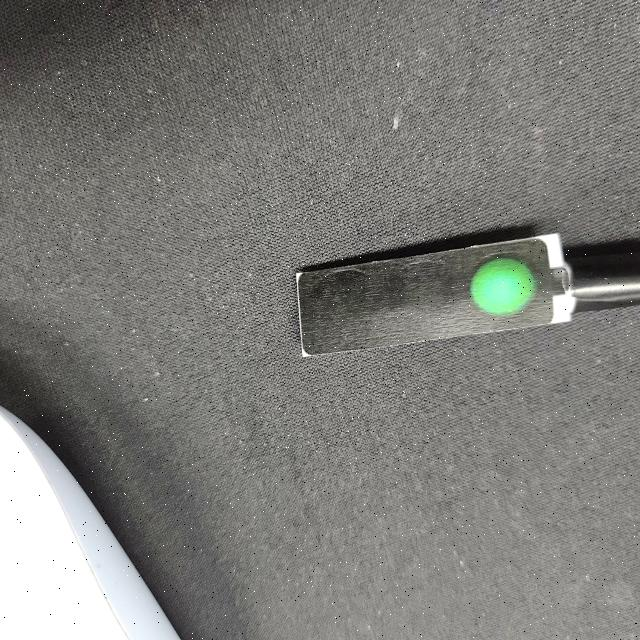traffic light: (295, 223, 576, 358)
